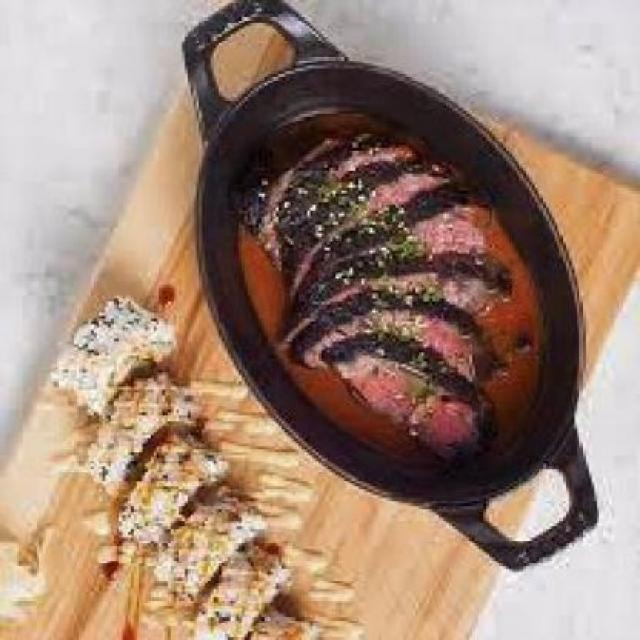steak: (253, 99, 515, 470)
sushi: (77, 273, 245, 638)
